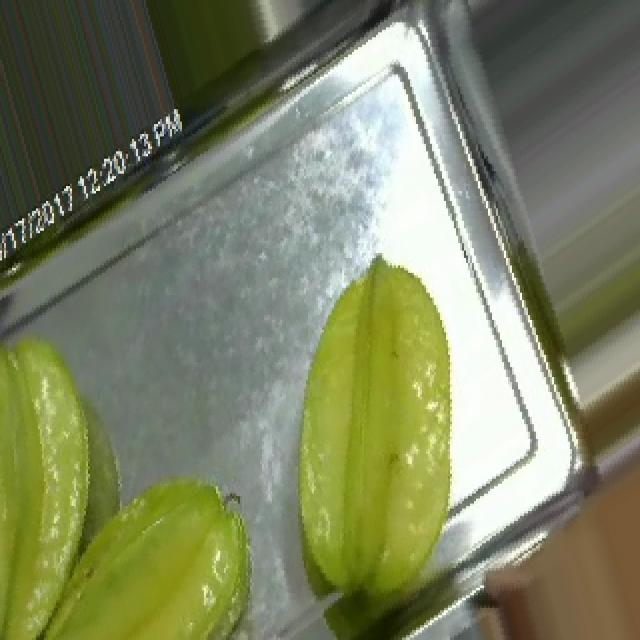fruit: (232, 230, 530, 640), (0, 295, 168, 638), (506, 114, 640, 442), (456, 426, 640, 640)
